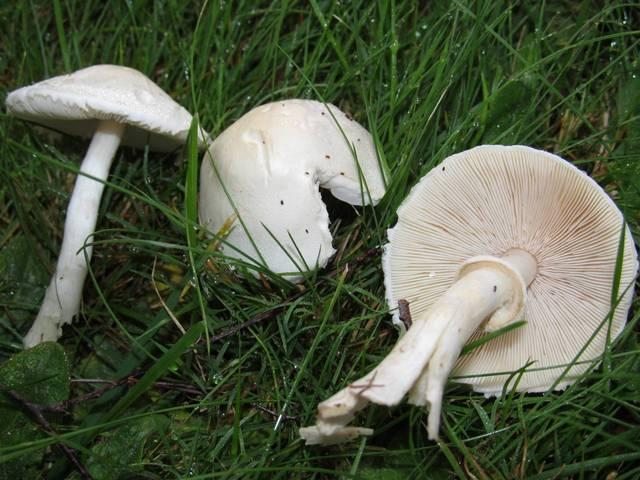poisonous_mushroom: (299, 142, 639, 446), (4, 62, 210, 350), (197, 97, 387, 286)
